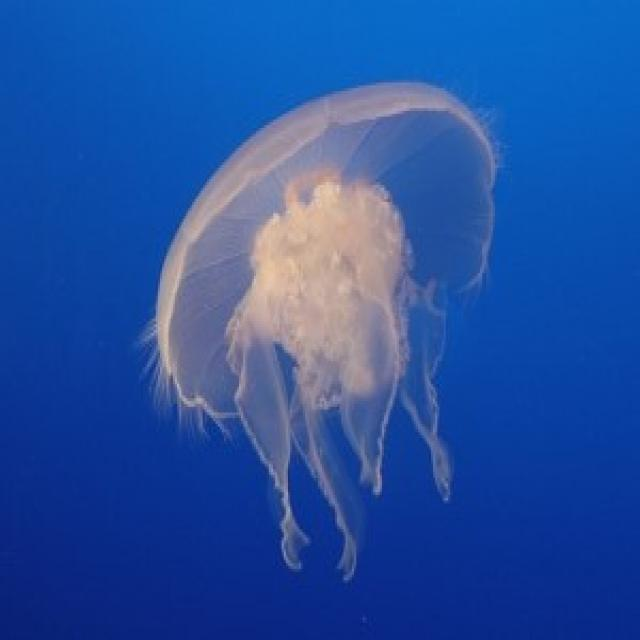Jellyfish: (143, 79, 500, 576)
